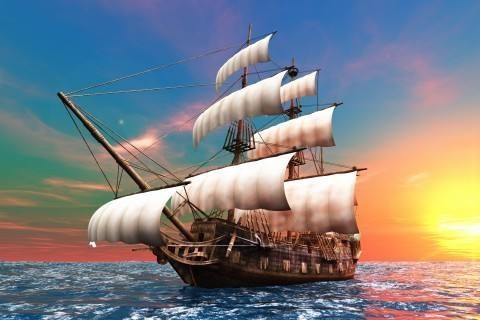fanchuan: (56, 24, 364, 290)
